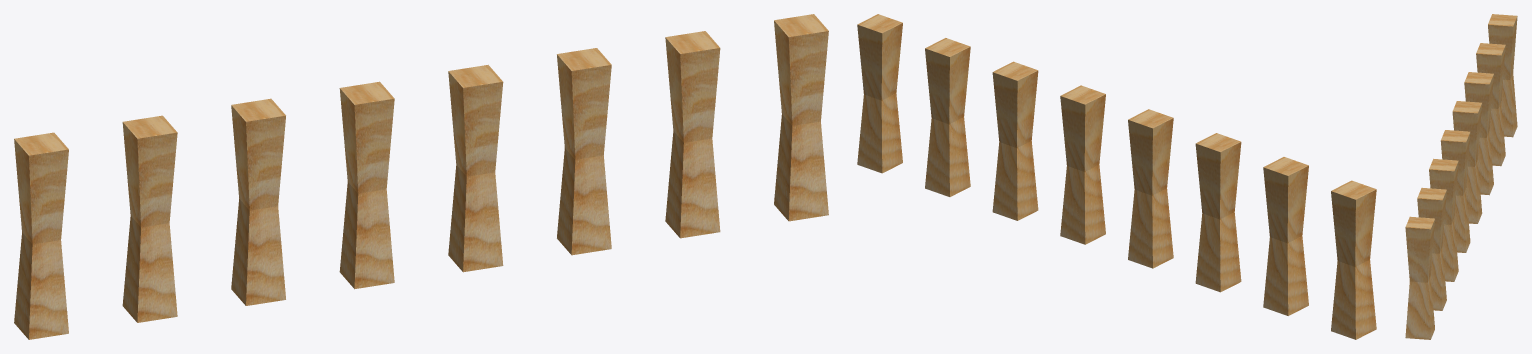
Rendered from cube.048_lev2.glb.
3 renders of one model, left to right at view 1: azimuth 30°, elevation 25°; view 2: azimuth 150°, elevation 25°; view 3: azimuth 270°, elevation 25°, orthographic. The views are drawn at different scales.
Parts seen in each view (by area): view 1: cube.048_lev2; view 2: cube.048_lev2; view 3: cube.048_lev2.
Part boxes in pixels (bbox=[...]): cube.048_lev2: bbox=[14, 14, 828, 339]; cube.048_lev2: bbox=[857, 14, 1376, 339]; cube.048_lev2: bbox=[1405, 14, 1517, 339].
Bounding box in the file's own units: 0.797 × 0.1911 × 0.1754.
1 material, 1 textured.
